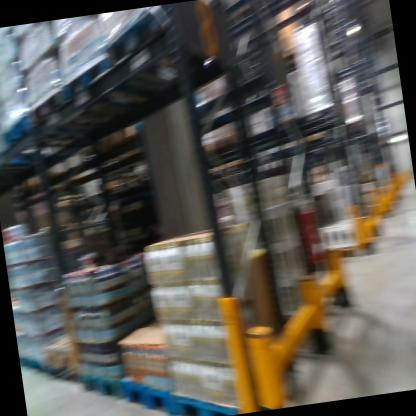pallet: (57, 35, 226, 131), (99, 0, 235, 105), (29, 71, 127, 154), (0, 96, 92, 166), (112, 360, 175, 416), (164, 375, 250, 416), (78, 357, 130, 416)
